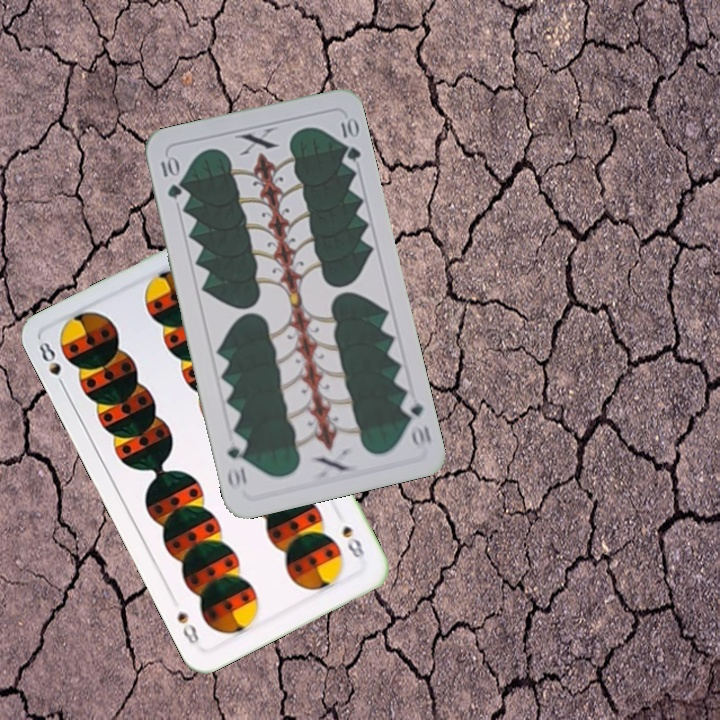G10: (397, 391, 434, 452), (156, 152, 184, 201)
S8: (34, 337, 69, 393), (338, 522, 369, 565)
